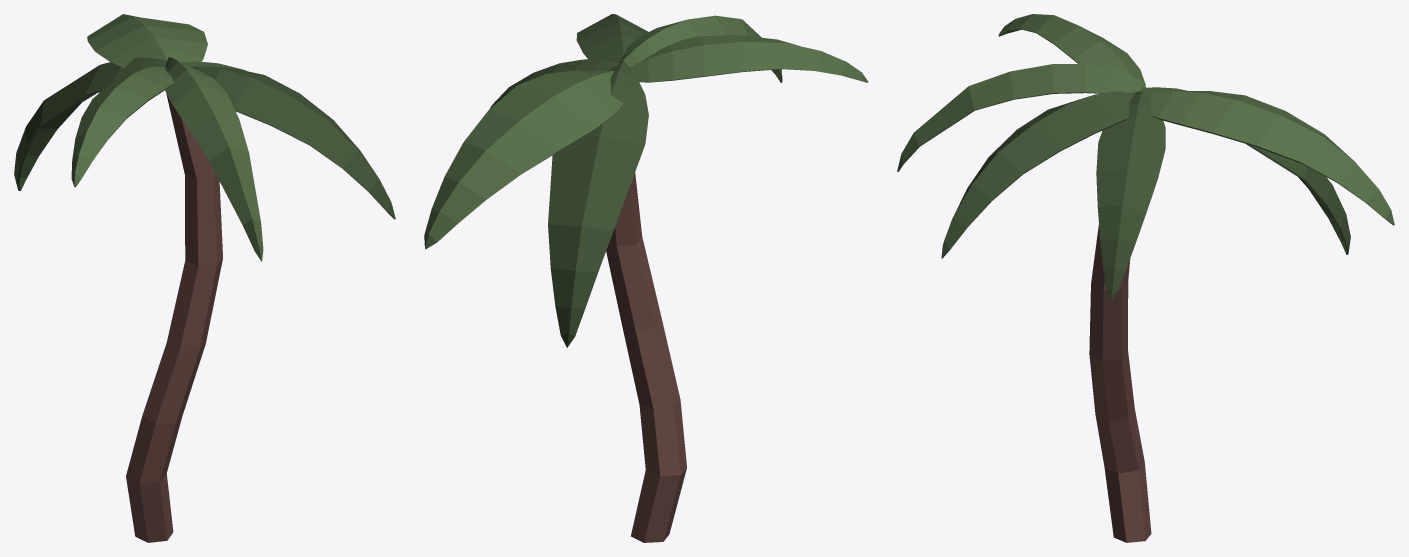
Rendered from Tree.glb.
3 renders of one model, left to right at view 1: azimuth 30°, elevation 25°; view 2: azimuth 150°, elevation 25°; view 3: azimuth 270°, elevation 25°, orthographic. The views are drawn at different scales.
Parts seen in each view (by area): view 1: PalmTree_2; view 2: PalmTree_2; view 3: PalmTree_2.
Part boxes in pixels (box(x1,y1,x2,y2)): PalmTree_2: box(14, 14, 395, 542); PalmTree_2: box(424, 14, 868, 542); PalmTree_2: box(897, 14, 1394, 542).
Size of the model in its own units: 1.09 by 1.52 by 1.44.
